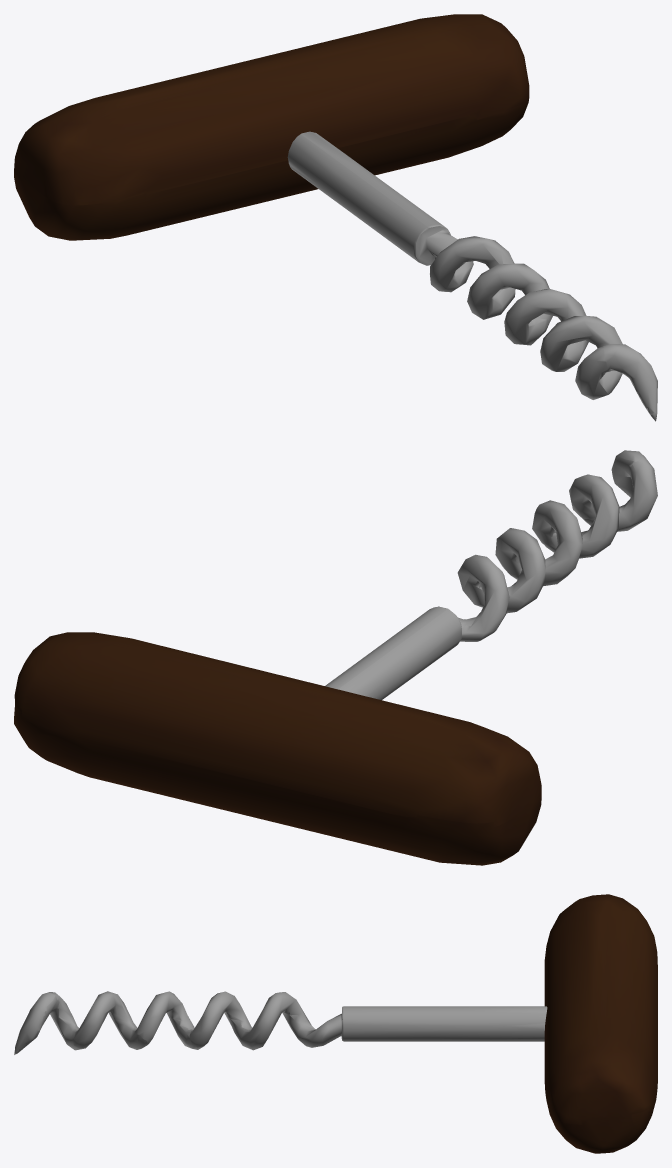
The model's file is CorkScrew.fbx.
3 renders of one model, top to bottom at view 1: azimuth 30°, elevation 25°; view 2: azimuth 150°, elevation 25°; view 3: azimuth 270°, elevation 25°, orthographic. The views are drawn at different scales.
Visible parts, largest first — view 1: Handle, Screw; view 2: Handle, Screw; view 3: Handle, Screw.
Part boxes in pixels (box(x1,y1,x2,y2)): Handle: box(14, 14, 529, 240); Screw: box(287, 131, 657, 421); Handle: box(14, 632, 541, 865); Screw: box(325, 450, 657, 700); Handle: box(544, 894, 657, 1153); Screw: box(14, 991, 547, 1054).
Bounding box in the file's own units: 10.06 × 2.59 × 14.64.
